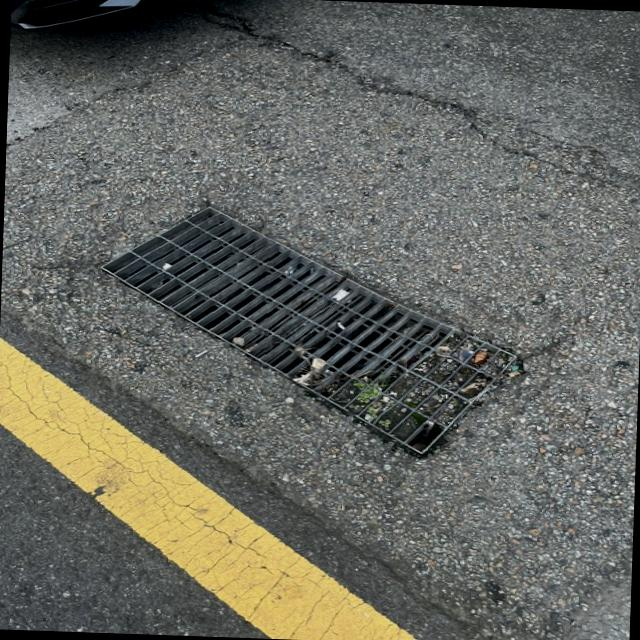drain_area: (105, 206, 452, 377)
drain_full: (101, 207, 516, 453)
